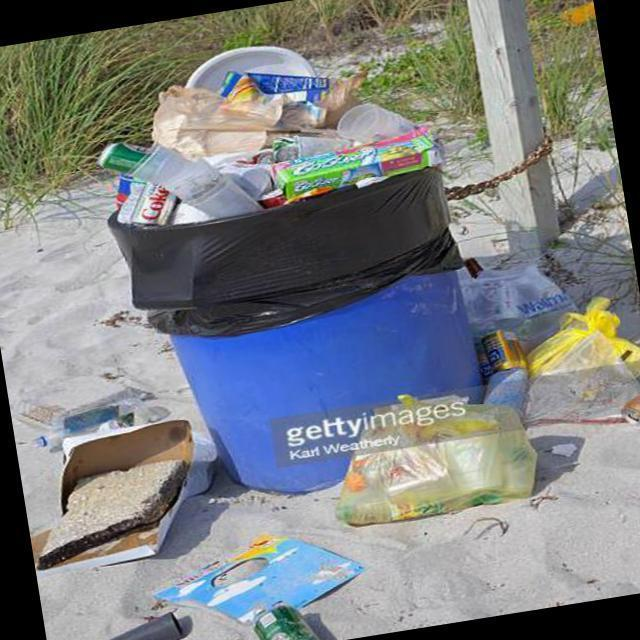garbage: (77, 46, 430, 232), (22, 392, 205, 568), (471, 274, 640, 446)
